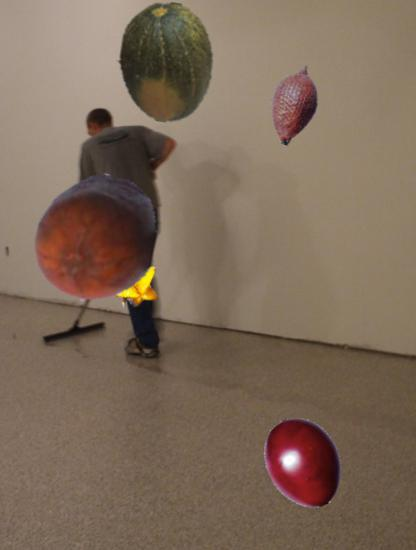Carambula: (108, 258, 163, 313)
Melon: (100, 1, 220, 121)
Nut: (31, 173, 161, 303)
Salak: (253, 63, 337, 147)
Tamarillo: (253, 410, 354, 511)
